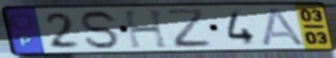2: (43, 11, 82, 50)
4: (226, 9, 258, 46)
A: (260, 6, 307, 47)
H: (122, 8, 172, 50)
S: (79, 9, 123, 51)
Z: (163, 7, 216, 49)
